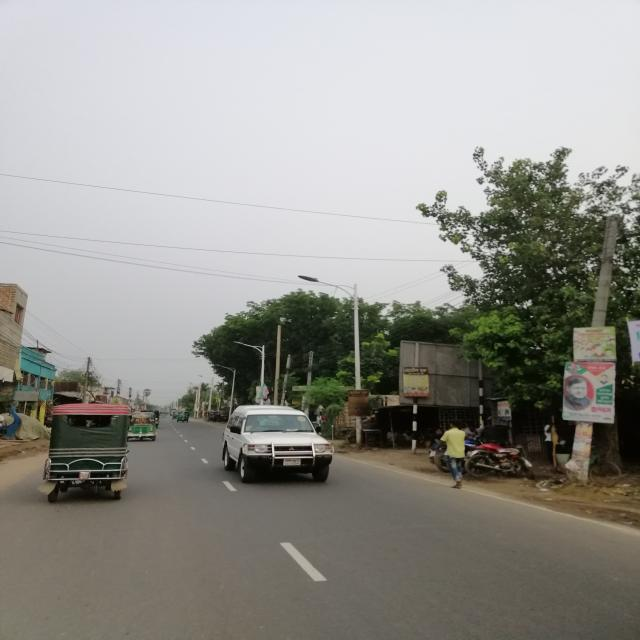Zeep: (219, 404, 338, 487)
